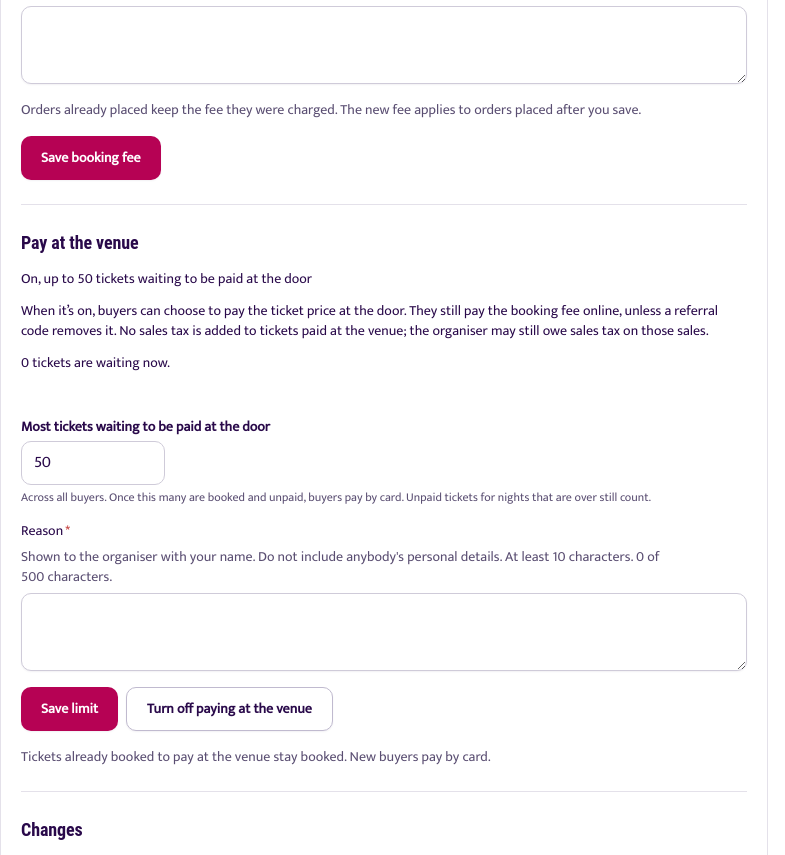
Test case: paying at the venue › refuses a limit out of bounds before sending anything
The image size is (785, 855).
(page scrolled)
Replace the text in the number field labelled "Most tickets waiting to be paid at the door" with "0" at (93, 463), box [21,441,165,485]
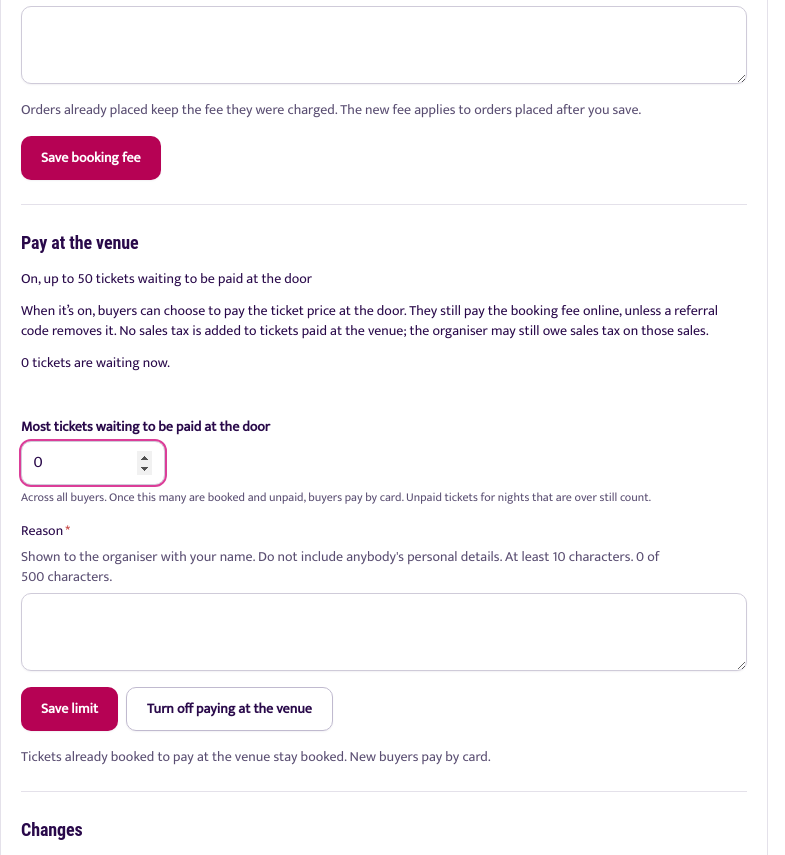
Type "Agreed with the organiser for this launch." into the text box labelled "Reason*" below "0 tickets are waiting now." at (384, 632), box [21,593,747,671]
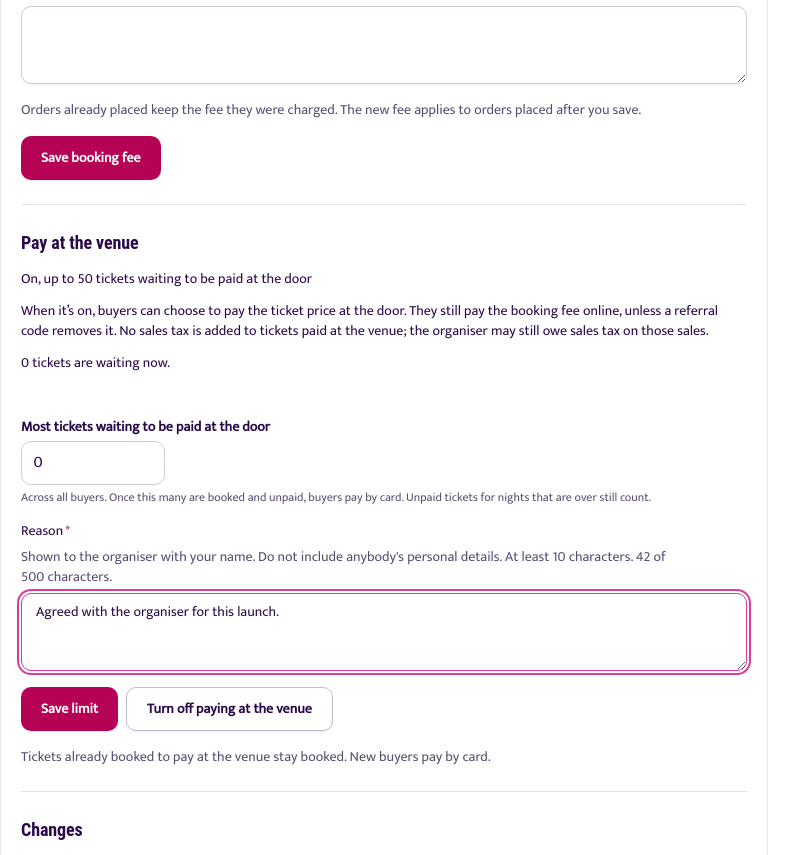
Click the button "Save limit" at (70, 709), box [21,687,118,731]
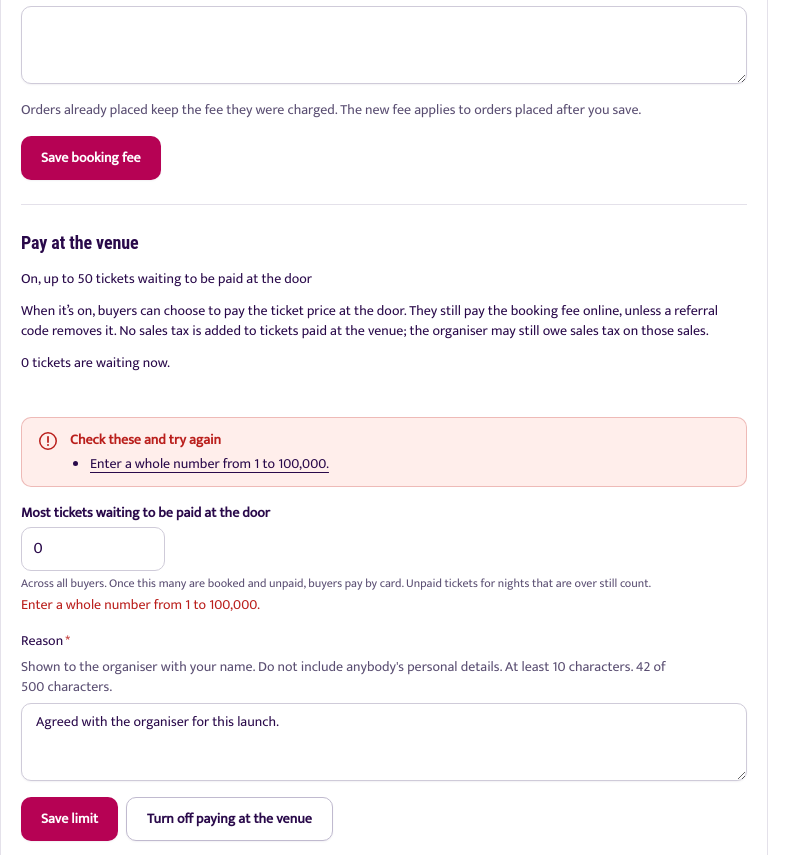
Expected: the link "Enter a whole number from 1 to 100,000." is shown, [90,452,329,475]
